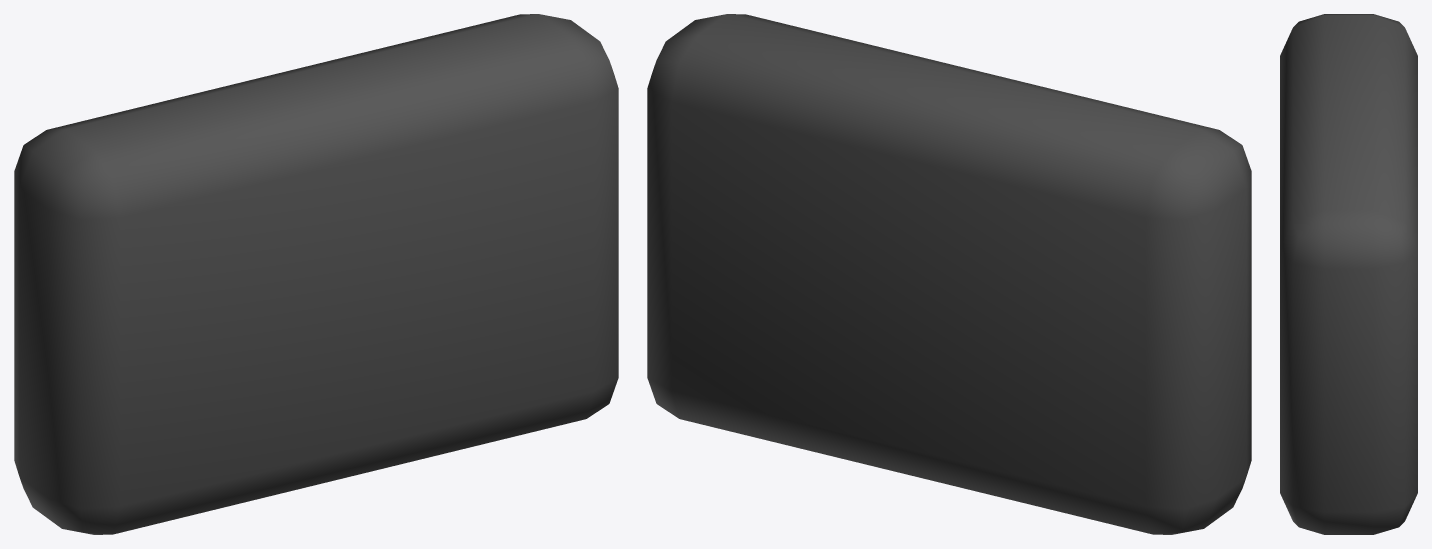
The model's file is wallBlock1.fbx.
The picture shows the model from 3 angles, left to right: view 1: azimuth 30°, elevation 25°; view 2: azimuth 150°, elevation 25°; view 3: azimuth 270°, elevation 25°; orthographic projection. The views are drawn at different scales.
Parts seen in each view (by area): view 1: wall.013; view 2: wall.013; view 3: wall.013.
Part boxes in pixels (x1,y1,x2,y2): wall.013: (14, 14, 618, 534); wall.013: (647, 14, 1251, 534); wall.013: (1280, 14, 1417, 534).
Size of the model in its own units: 97.61 by 63.41 by 24.47.
